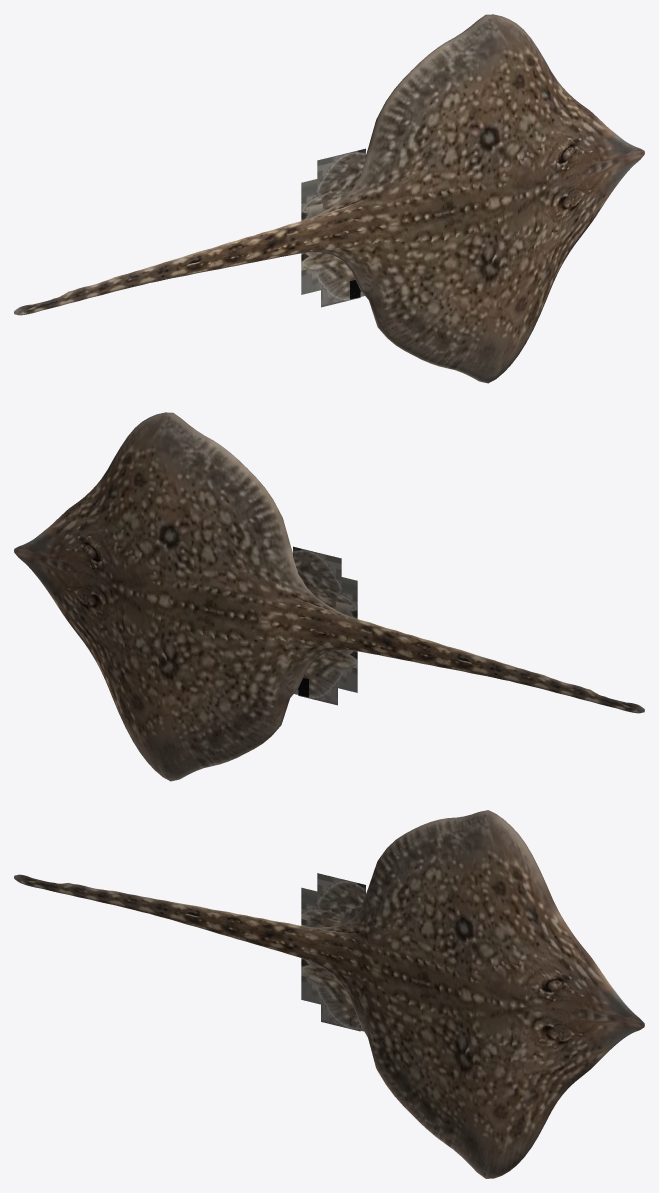
Rendered from real-raja_clavata.glb.
The picture shows the model from 3 angles, top to bottom: view 1: azimuth 30°, elevation 25°; view 2: azimuth 150°, elevation 25°; view 3: azimuth 330°, elevation 25°; orthographic projection.
Visible parts, largest first — view 1: raja_clavata; view 2: raja_clavata; view 3: raja_clavata.
Boxes of the visible parts, x1,y1,x2,y2 form: raja_clavata: (14, 14, 644, 383); raja_clavata: (14, 412, 644, 781); raja_clavata: (14, 810, 644, 1178).
Bounding box in the file's own units: 0.8479 × 0.473 × 0.0662.
1 material, 1 textured.
